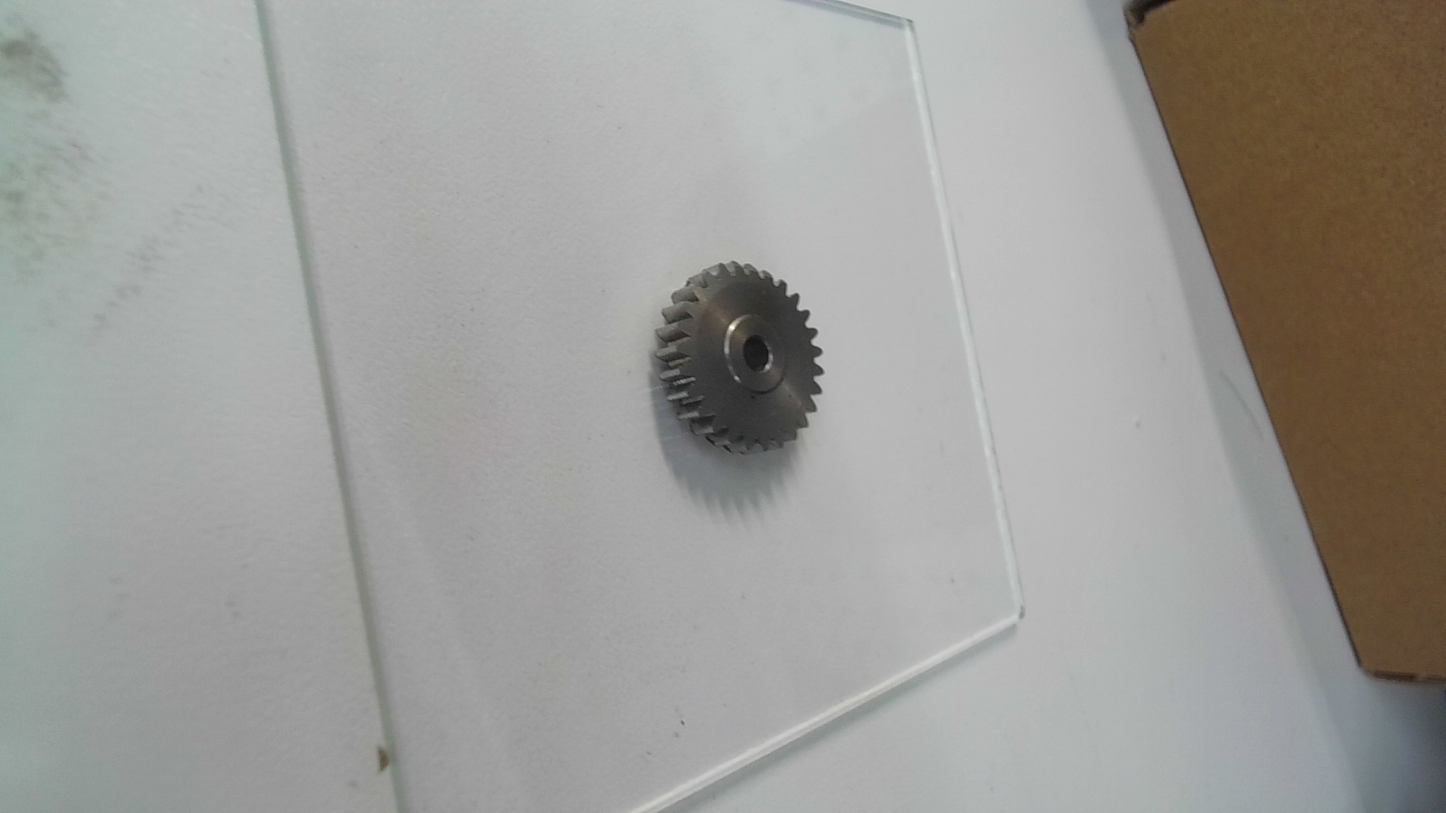gear: (650, 250, 829, 457)
